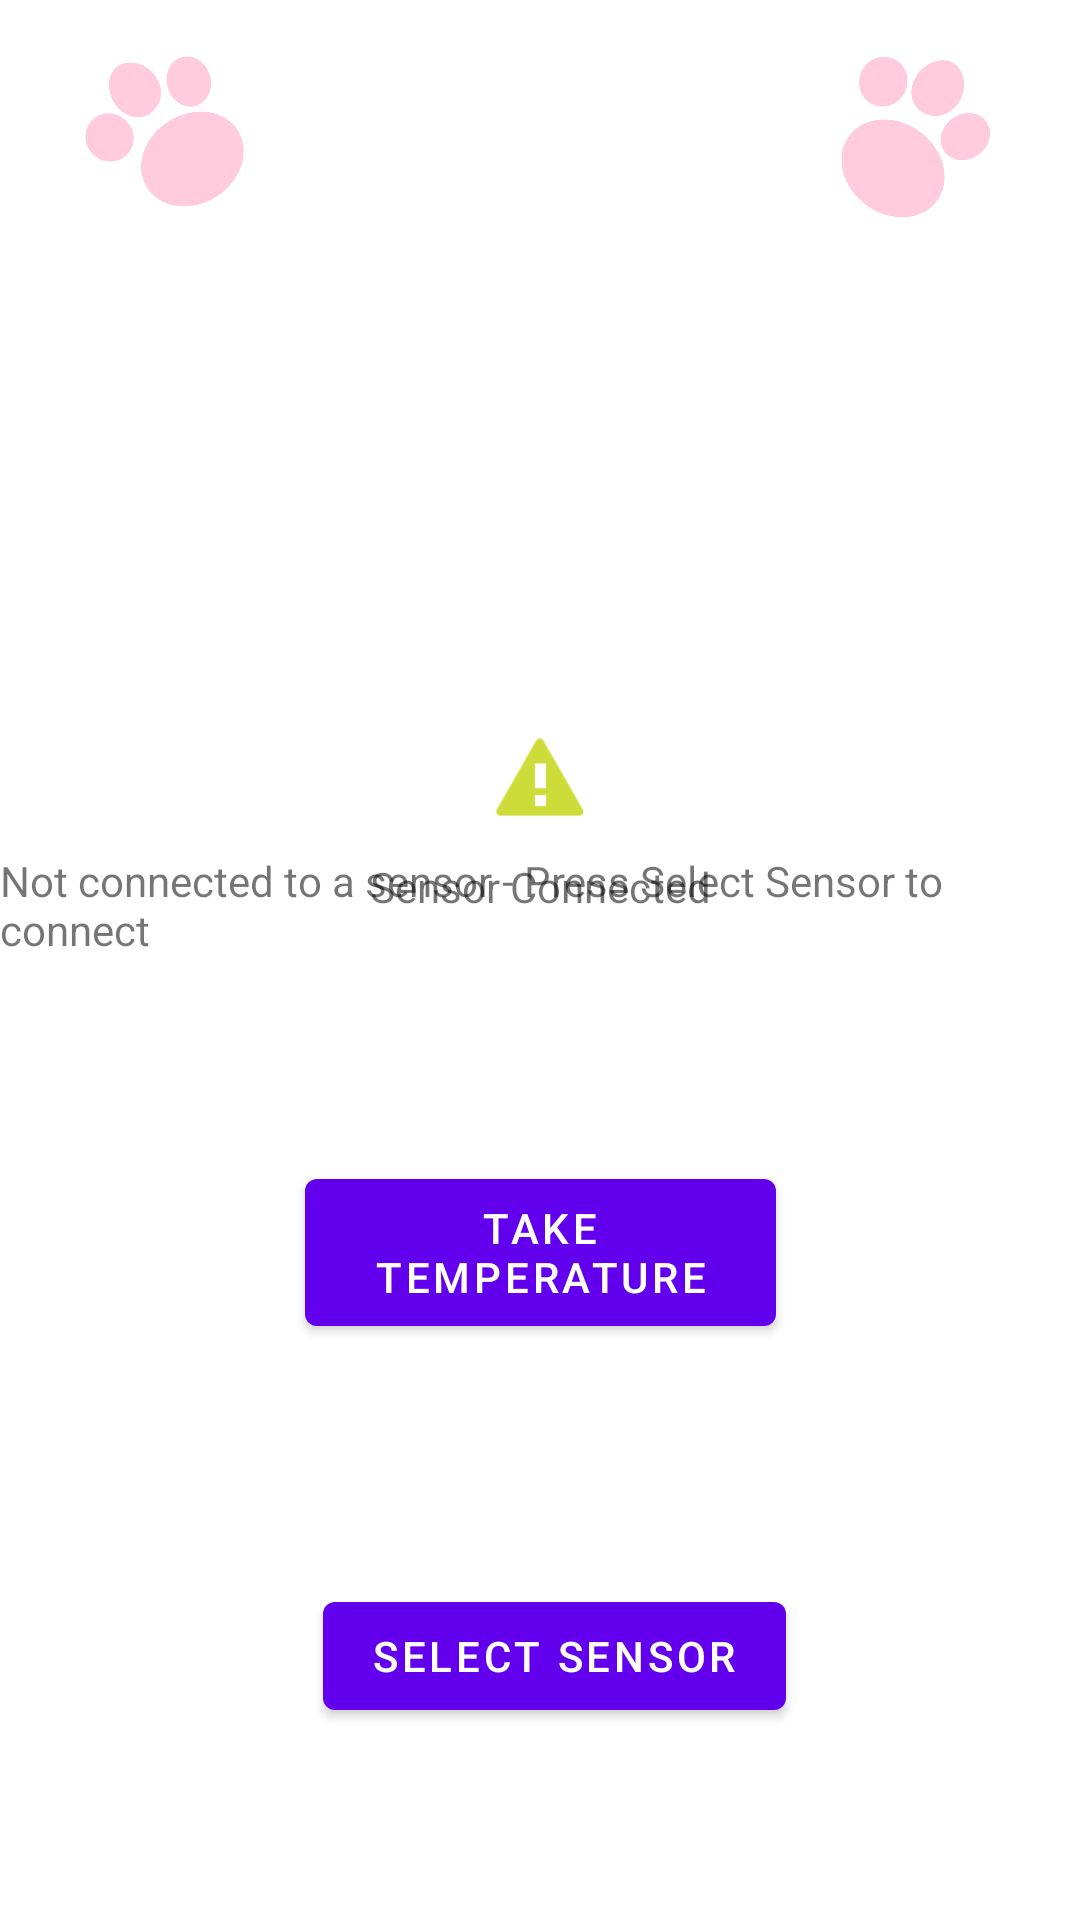

Named icons in this screenshot (1080w x 1920h) and their bounding boxes, (x1, y1, x2, y2):
warning: (496, 738, 584, 816)
